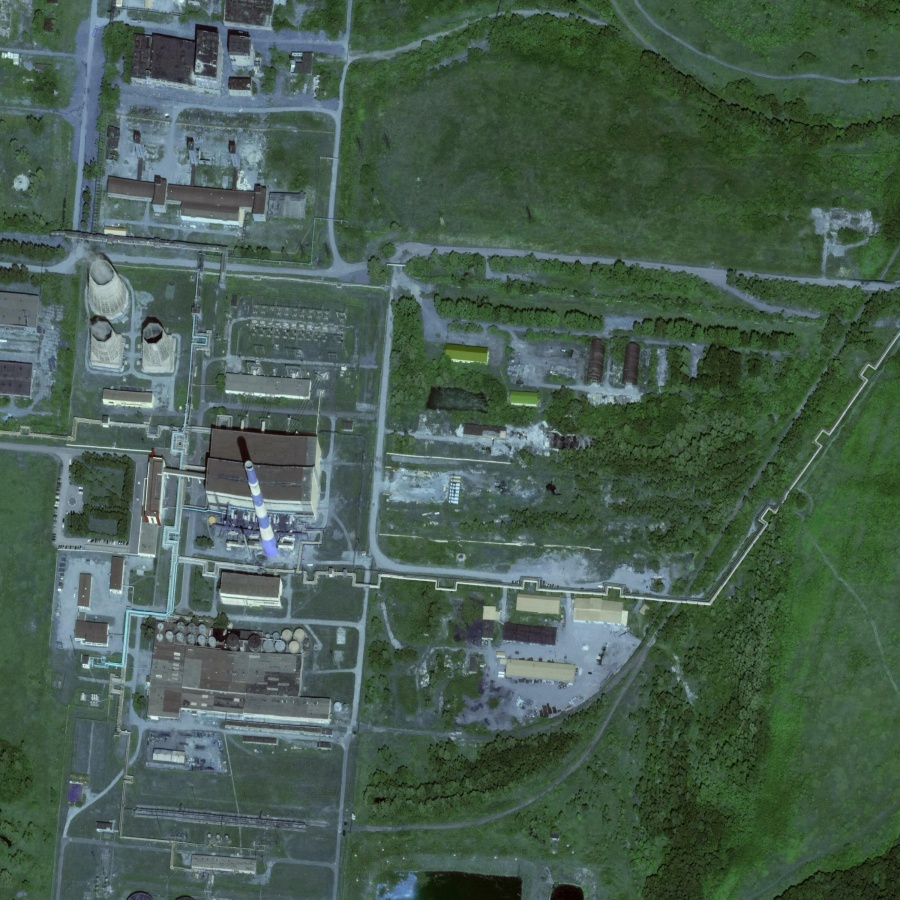PowerPlant: (59, 249, 352, 608)
